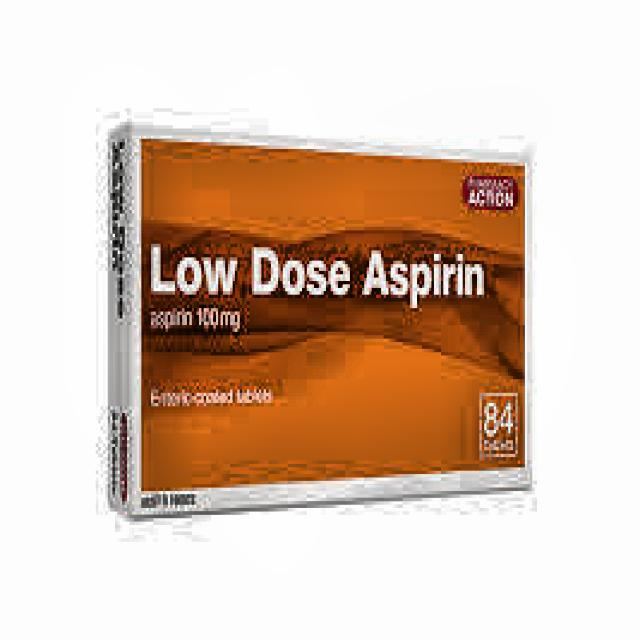Aspirin: (143, 138, 530, 488)
